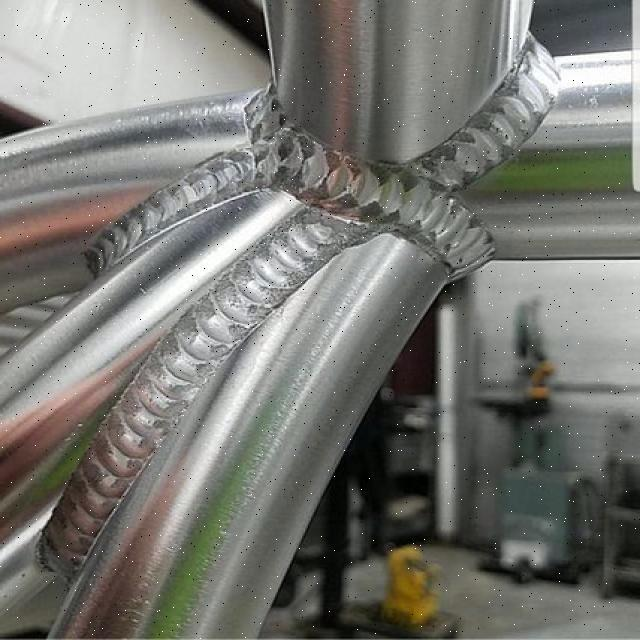Good Welding: (43, 39, 558, 575)
